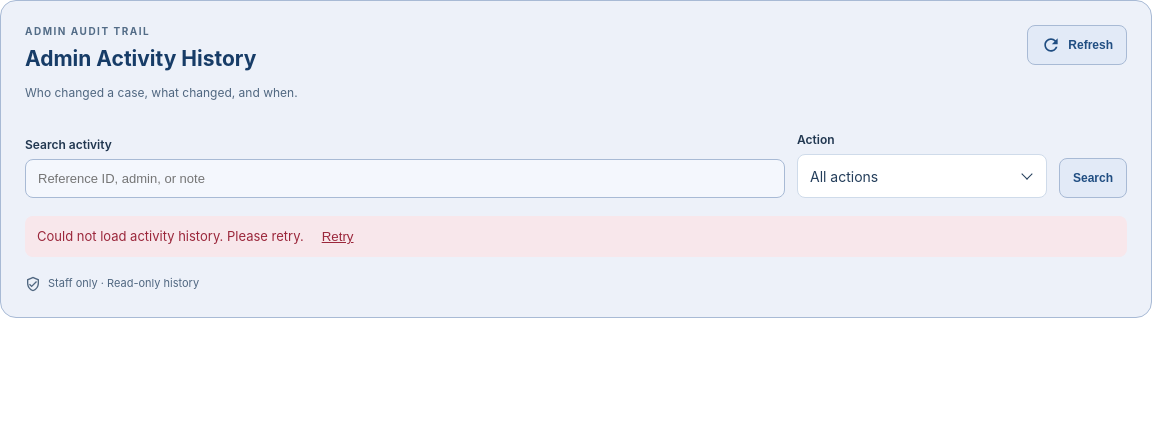
Scenario: handles errors, retries, and explains empty history without inventing old events
Expected: the message shows "Could not load activity history", 37,228 -> 304,244
Click the button "Retry" at point(338, 237), box 316,228 -> 360,245
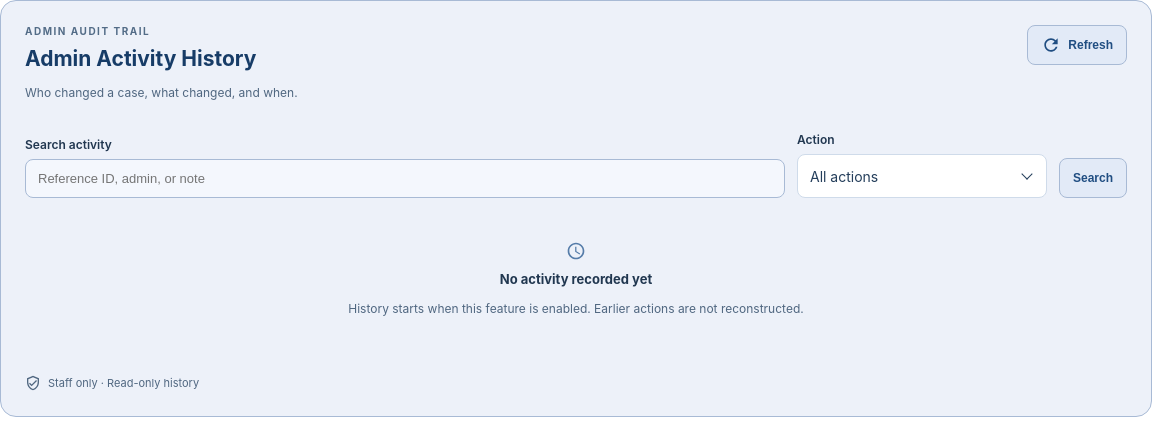
Result: the text "No activity recorded yet" is shown at 500,271 -> 652,287
Result: the text "Earlier actions are not reconstructed" is shown at 348,301 -> 804,316
